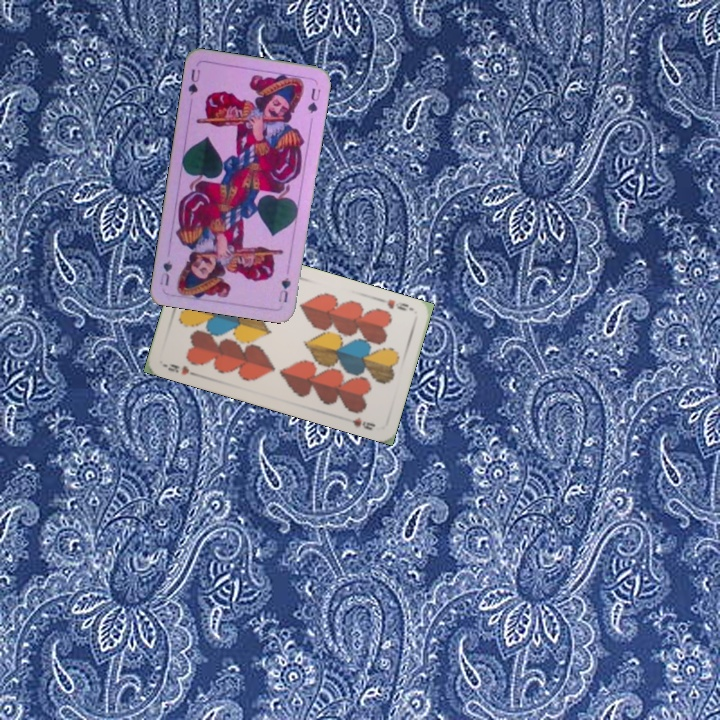GU: (184, 65, 203, 97), (274, 273, 293, 305)
H9: (164, 360, 200, 379), (377, 295, 411, 313)
